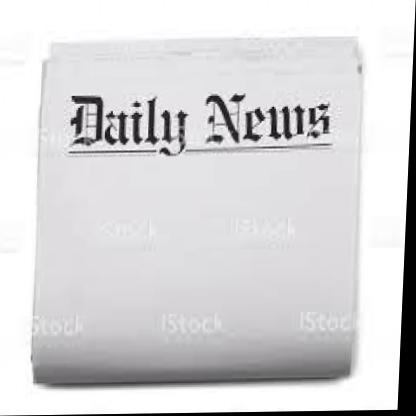trash: (32, 37, 361, 383)
